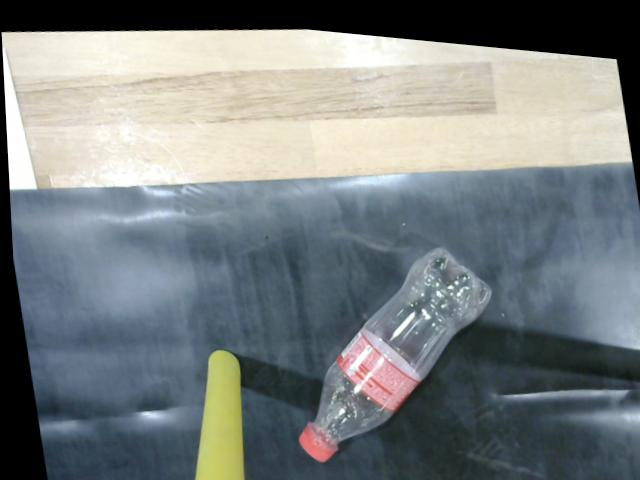bottle: (292, 237, 499, 464)
